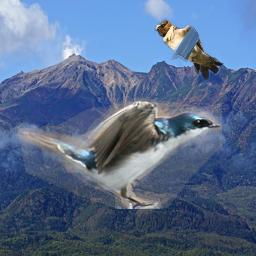Swallow: (15, 98, 222, 209), (154, 19, 224, 81)
